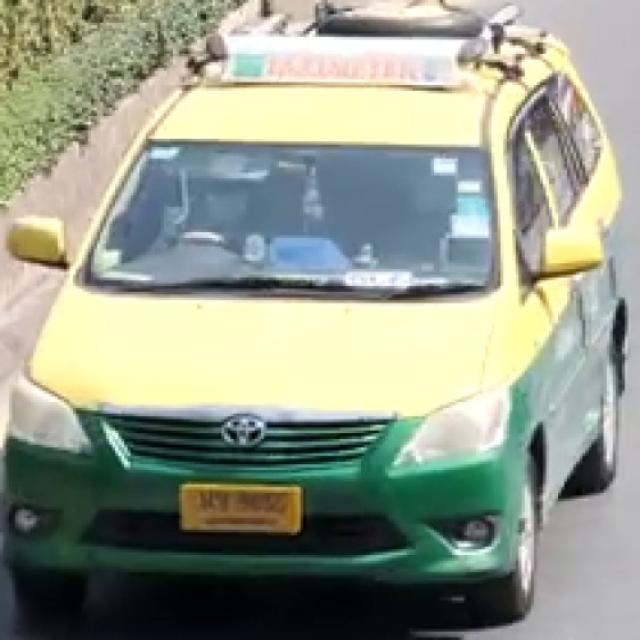plate: (182, 485, 303, 535)
